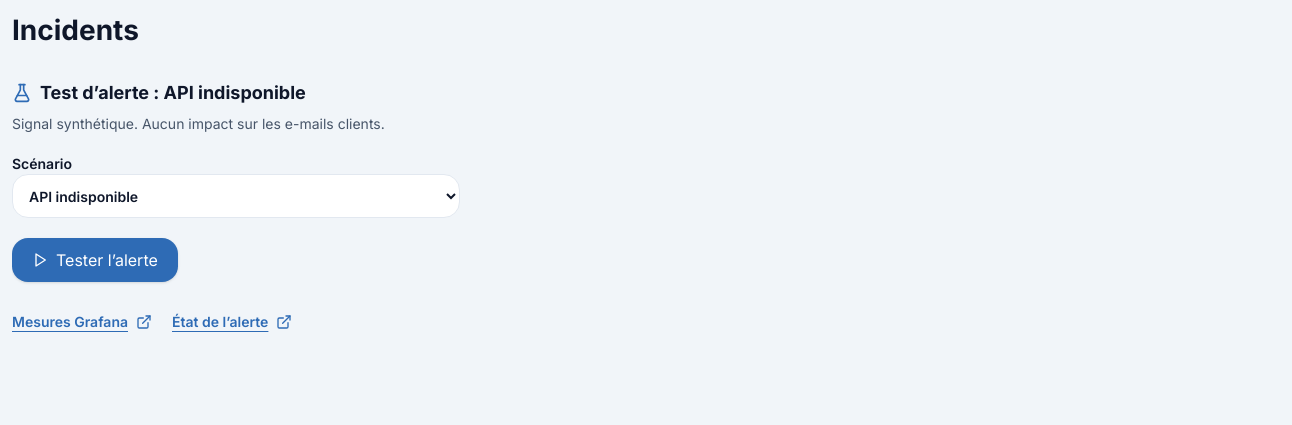
Test case: admin operational exercises › cancels confirmation without sending a signal and retains monitoring links
This screenshot has width=1292, height=425.
Click the button "Tester l’alerte" at coordinates (95, 260), box x1=12 y1=238 x2=178 y2=282
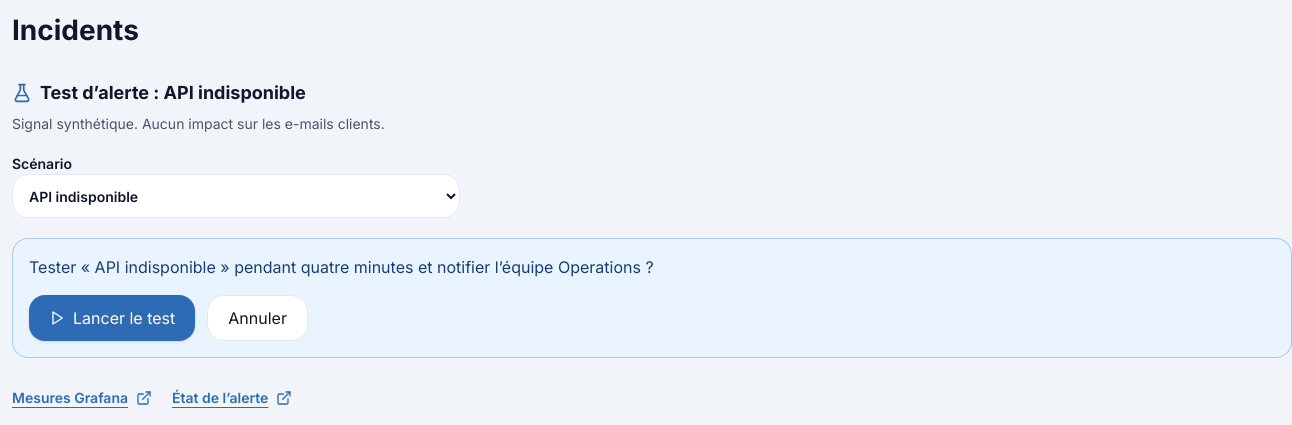
Click the button "Annuler" at coordinates (258, 318), box x1=207 y1=295 x2=308 y2=341
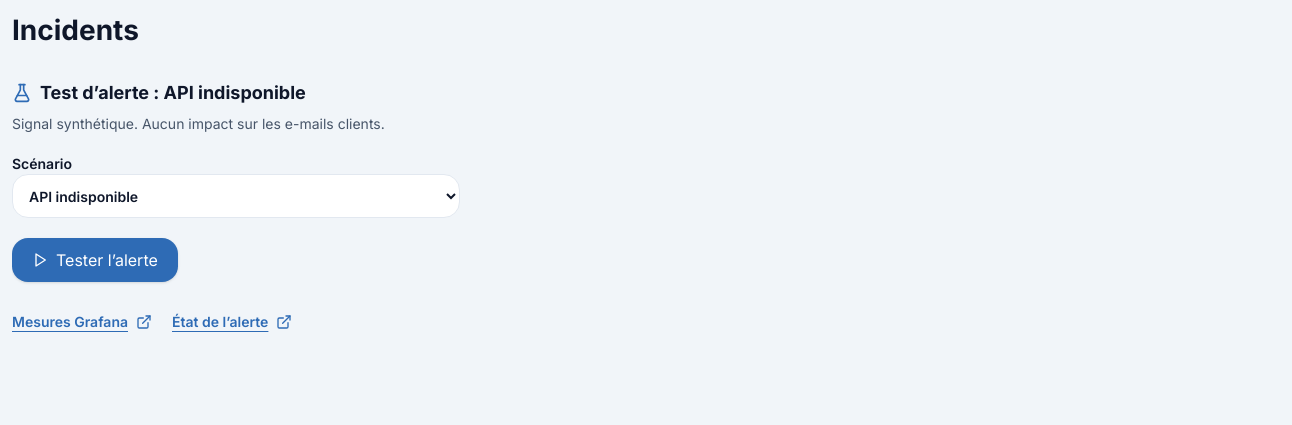
Result: the button "Lancer le test" is gone
